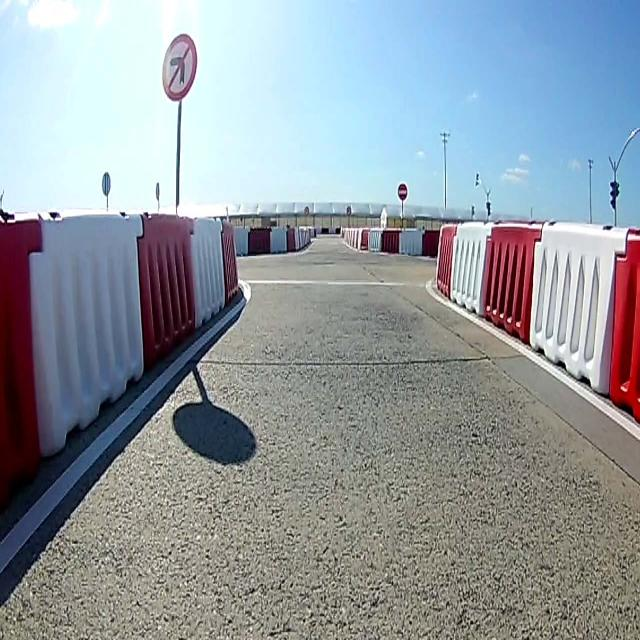girisyok: (397, 181, 408, 202)
soladonulmez: (162, 34, 196, 102)
